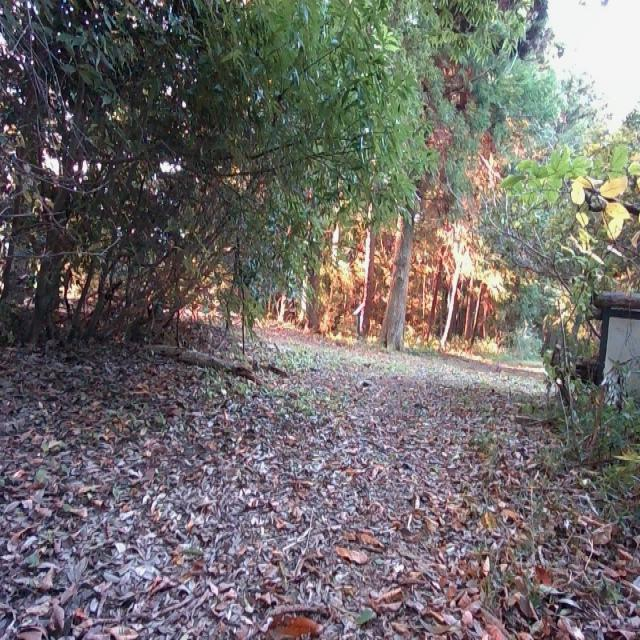artifact: (586, 272, 640, 417)
bush: (539, 310, 640, 543)
tree: (0, 0, 384, 364), (380, 167, 424, 357)
